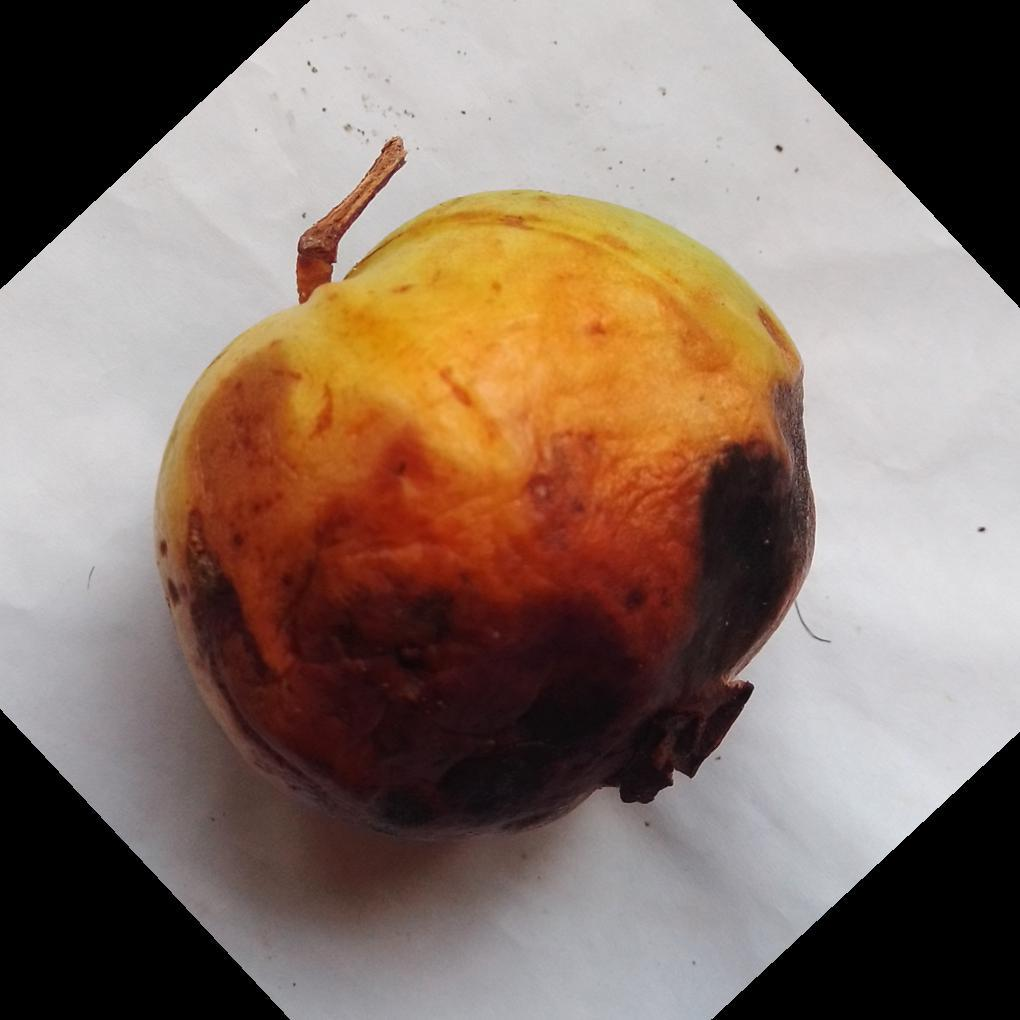FreshOrange: (150, 190, 817, 845)
